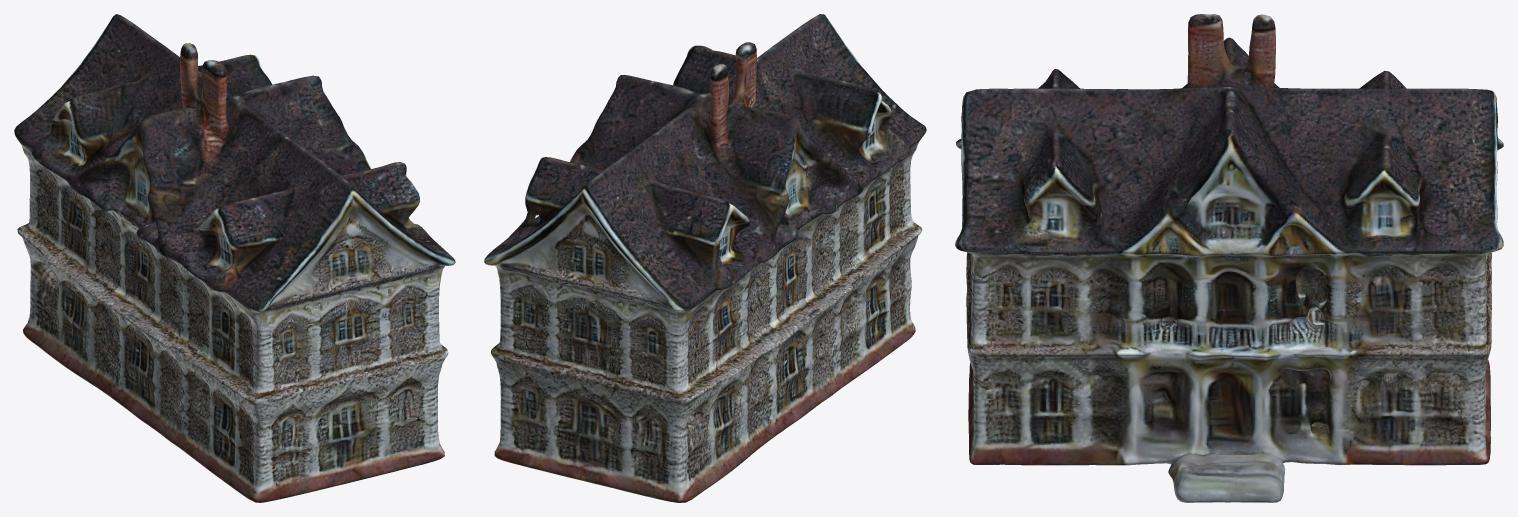
The model's file is 2 story Victorian style mansion house.glb.
3 renders of one model, left to right at view 1: azimuth 30°, elevation 25°; view 2: azimuth 150°, elevation 25°; view 3: azimuth 270°, elevation 25°, orthographic. The views are drawn at different scales.
Visible parts, largest first — view 1: model; view 2: model; view 3: model.
Boxes of the visible parts, x1=… form: model: x1=14, y1=14, x2=455, y2=502; model: x1=484, y1=14, x2=926, y2=502; model: x1=955, y1=14, x2=1503, y2=502.
Bounding box in the file's own units: 1.01 × 1.15 × 1.48.
Materials: 1 (1 with a texture image).
